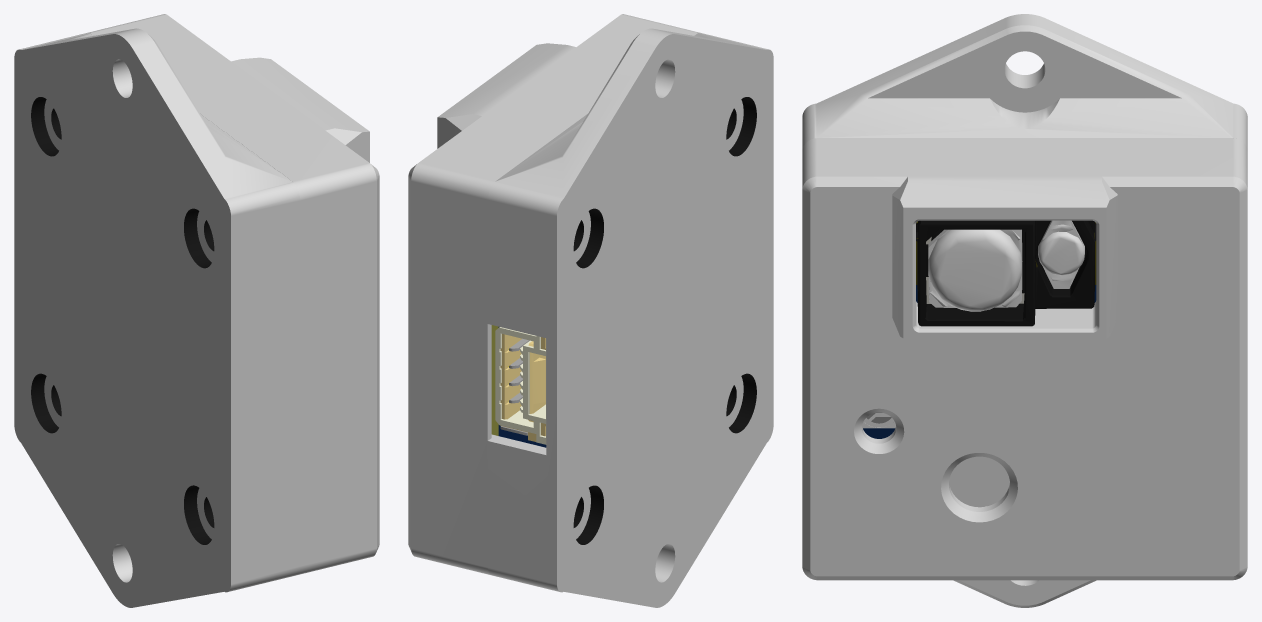
File: sensor.obj
The picture shows the model from 3 angles, left to right: view 1: azimuth 30°, elevation 25°; view 2: azimuth 150°, elevation 25°; view 3: azimuth 270°, elevation 25°; orthographic projection. The views are drawn at different scales.
Visible parts, largest first — view 1: hflow; view 2: hflow; view 3: hflow.
Boxes of the visible parts, x1,y1,x2,y2 form: hflow: (14, 14, 379, 607); hflow: (408, 14, 773, 607); hflow: (802, 14, 1247, 607).
Bounding box in the file's own units: 0.0142 × 0.041 × 0.0284.
